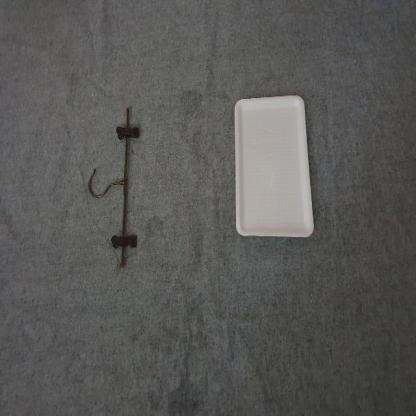Glass Cup: (235, 94, 316, 239), (235, 96, 314, 237)
